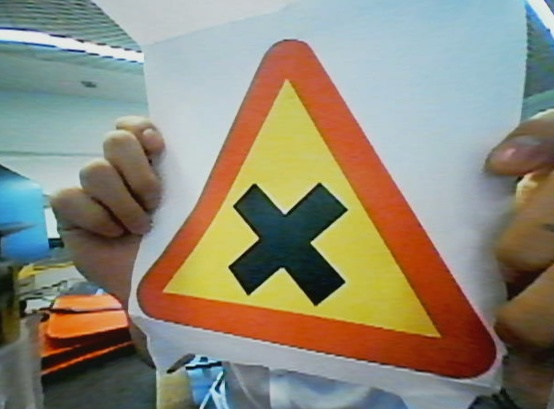junction: (145, 41, 531, 409)
